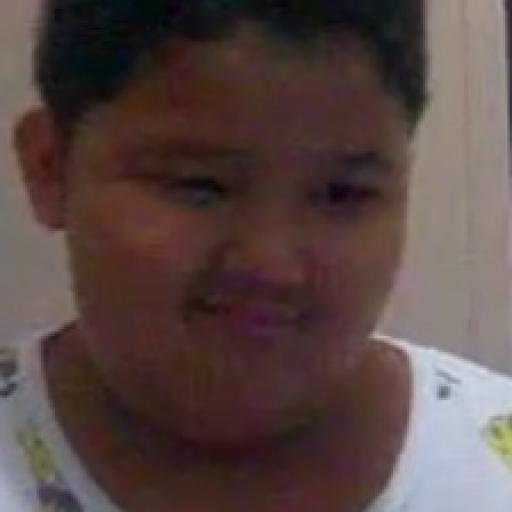Autism: (0, 0, 436, 498)
